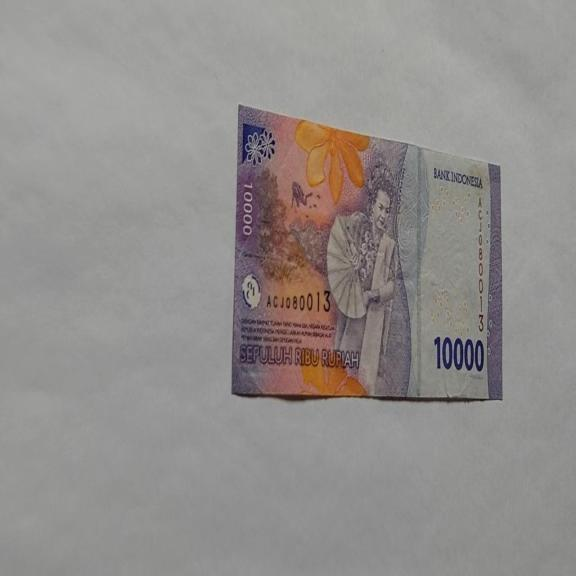Kertas: (231, 102, 503, 402)
